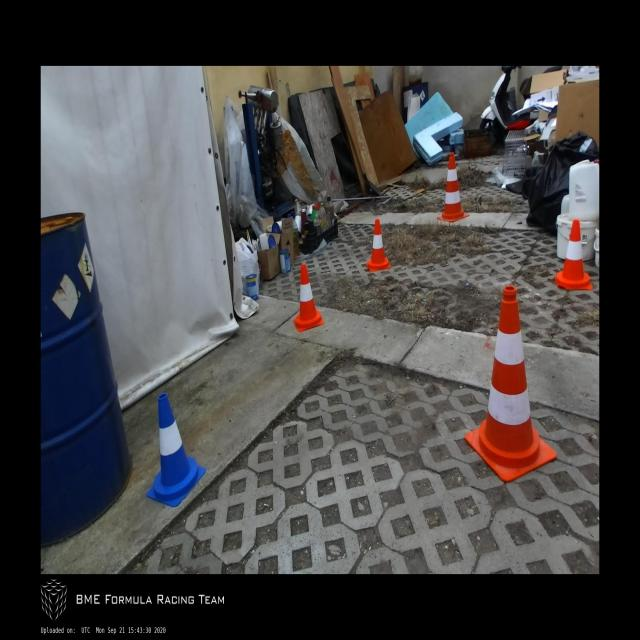blue_cone: (147, 393, 205, 507)
large_orange_cone: (465, 287, 556, 481), (437, 151, 470, 224)
orange_cone: (554, 220, 590, 290), (293, 264, 324, 332), (366, 220, 389, 272)
